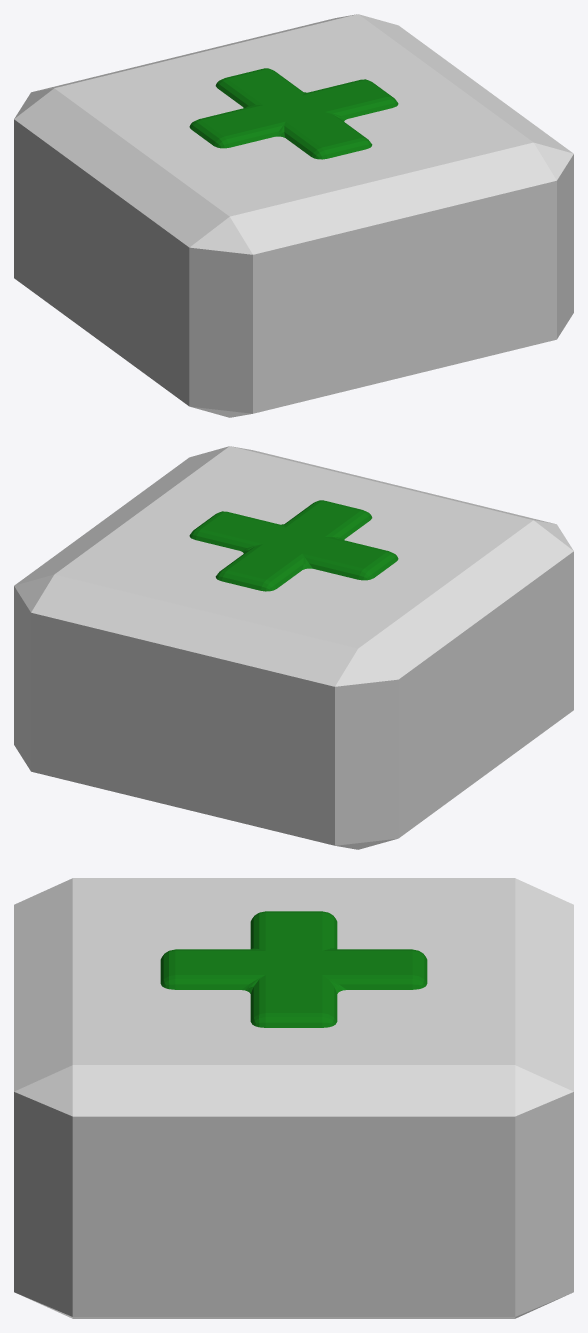
The model's file is HealthCare.fbx.
3 renders of one model, top to bottom at view 1: azimuth 30°, elevation 25°; view 2: azimuth 150°, elevation 25°; view 3: azimuth 270°, elevation 25°, orthographic. The views are drawn at different scales.
Parts seen in each view (by area): view 1: health, cross; view 2: health, cross; view 3: health, cross.
Part boxes in pixels (<box>): health: <box>14,14,573,417</box>; cross: <box>189,68,398,159</box>; health: <box>14,446,573,849</box>; cross: <box>189,500,398,591</box>; health: <box>14,878,573,1318</box>; cross: <box>160,911,427,1027</box>.
Bounding box in the file's own units: 0.3364 × 0.3364 × 0.1739.
